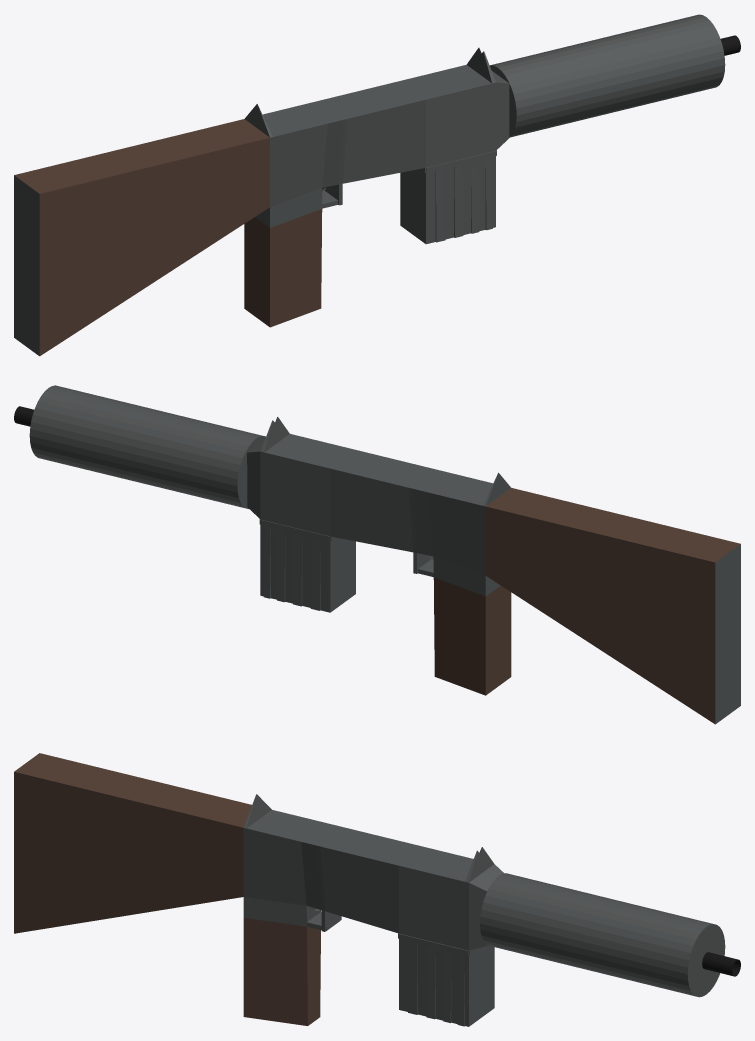
Rendered from gun.glb.
3 renders of one model, top to bottom at view 1: azimuth 30°, elevation 25°; view 2: azimuth 150°, elevation 25°; view 3: azimuth 330°, elevation 25°, orthographic.
Visible parts, largest first — view 1: Gun; view 2: Gun; view 3: Gun.
Boxes of the visible parts, bbox=[...] form: Gun: bbox=[14, 14, 740, 356]; Gun: bbox=[14, 385, 740, 724]; Gun: bbox=[14, 753, 740, 1026].
Size of the model in its own units: 3.15 by 0.9055 by 0.2884.
